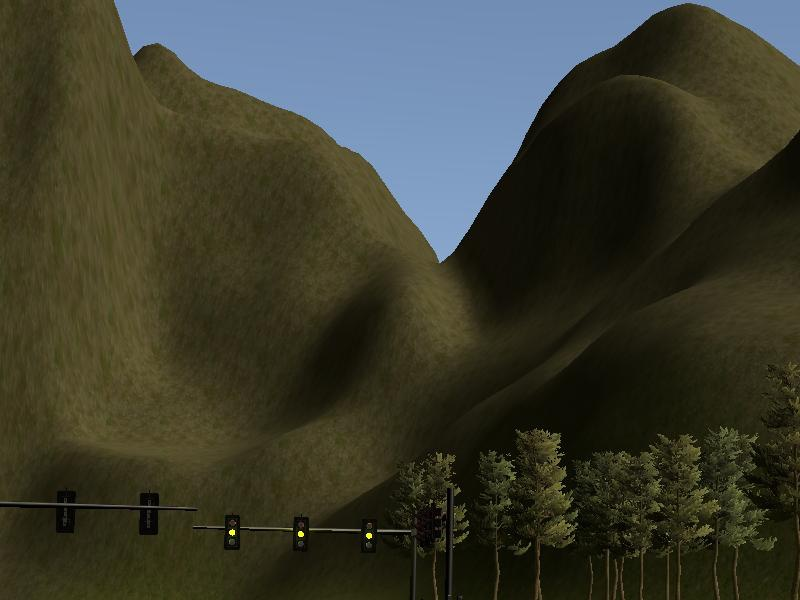Yellow: (292, 513, 311, 555), (222, 513, 241, 552), (359, 517, 378, 555)
